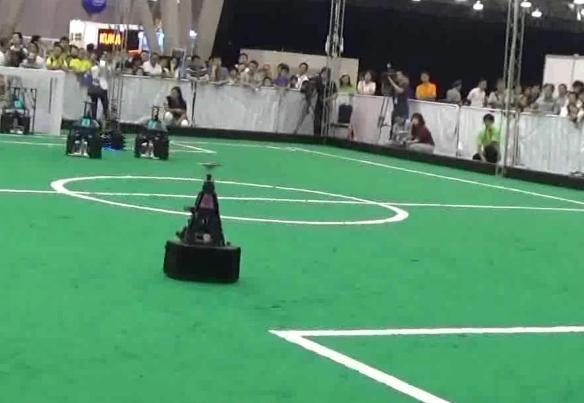robot: (161, 158, 243, 285), (131, 103, 174, 164), (66, 98, 104, 162)
